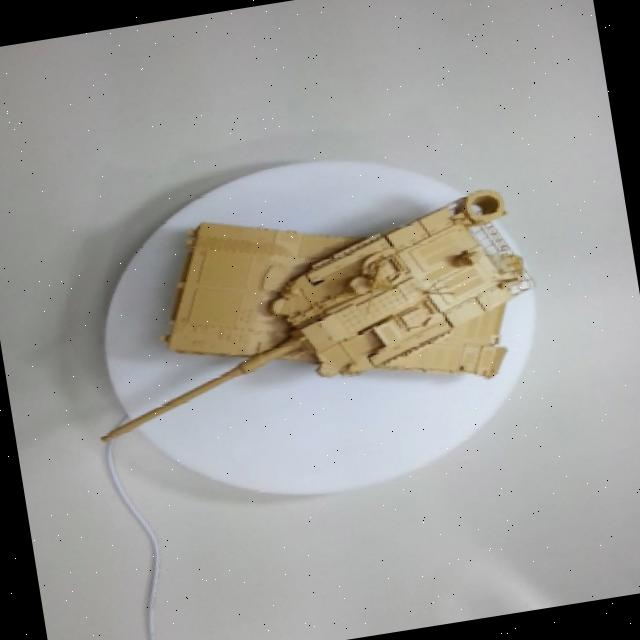korea tank: (46, 125, 588, 502)
